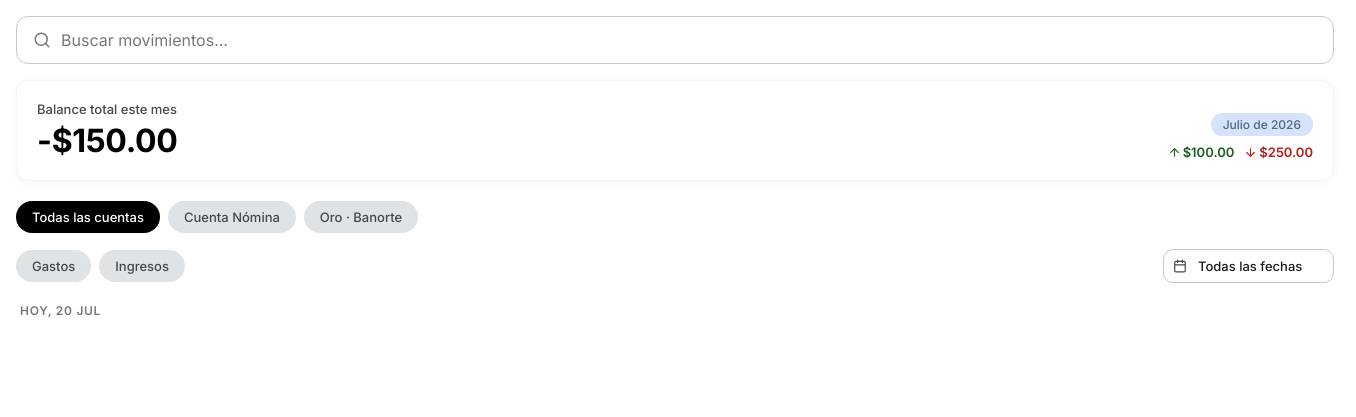
Test: HistorialView › filters by búsqueda text matching nota, cuenta/tarjeta or categoría
Type "café" into the field with test id "historial-busqueda-input" at (688, 40), box [59,29,1317,51]
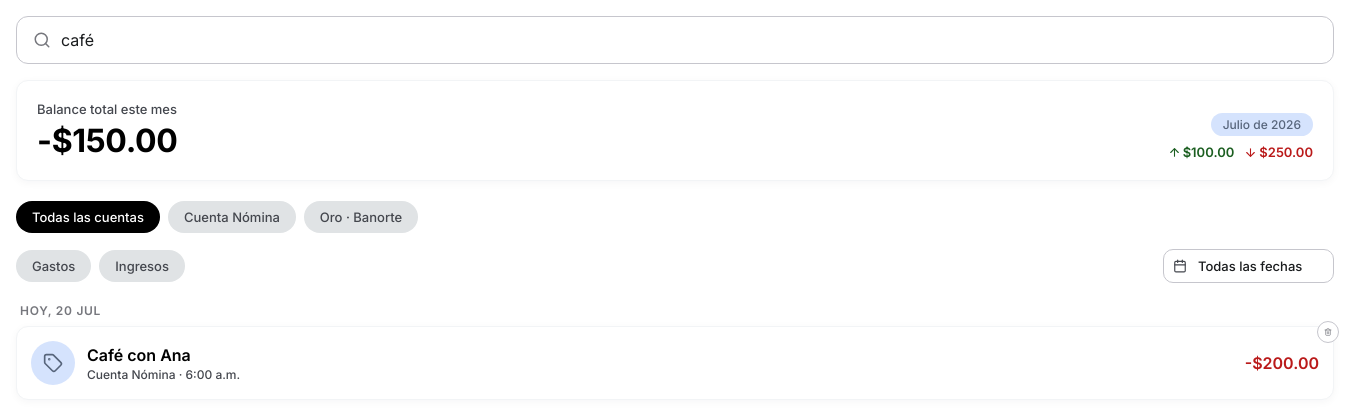
Now the text "Café con Ana" is shown, box [87,344,191,364]
